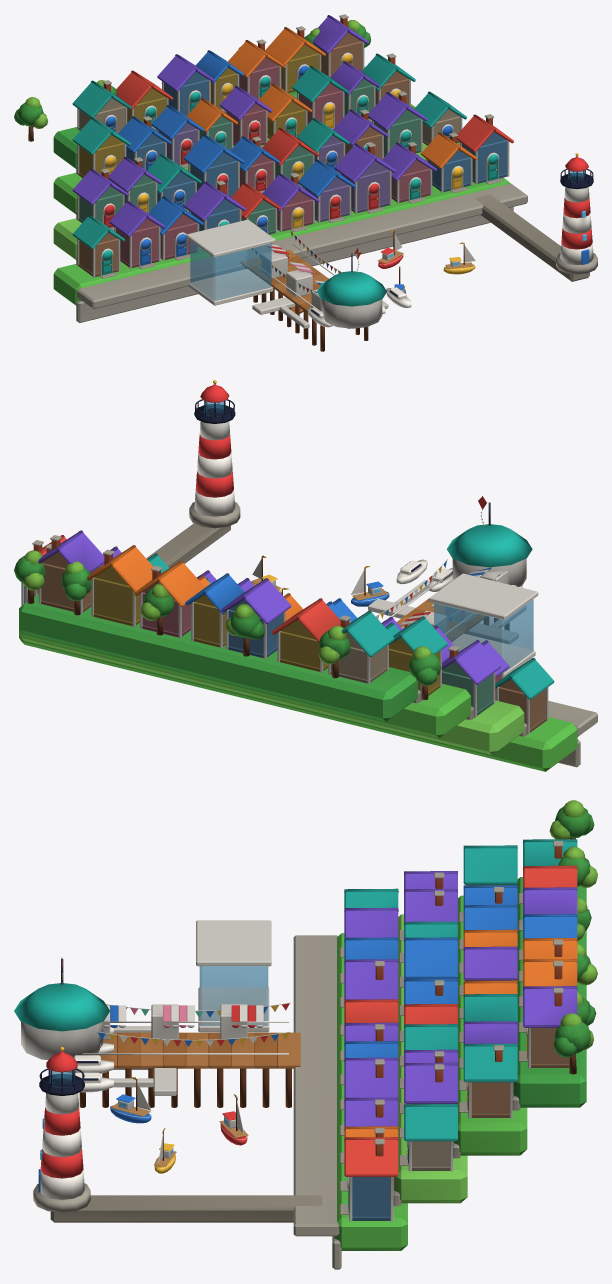
Rendered from harbour.glb.
3 renders of one model, top to bottom at view 1: azimuth 30°, elevation 25°; view 2: azimuth 150°, elevation 25°; view 3: azimuth 270°, elevation 25°, orthographic. The views are drawn at different scales.
Visible parts, largest first — view 1: harbour_Satin, harbour_Gloss, harbour_Matte, Marina_Satin, Marina_Glass, Pier_old_Satin, Pier_restored_Satin, Pier_restored_Gloss, Marina_Gloss; view 2: harbour_Matte, harbour_Satin, harbour_Gloss, Marina_Satin, Marina_Glass, Pier_restored_Gloss, Pier_old_Satin, Pier_restored_Satin, Marina_Gloss; view 3: harbour_Gloss, harbour_Satin, harbour_Matte, Pier_old_Satin, Marina_Satin, Pier_restored_Satin, Pier_restored_Gloss, Marina_Glass, Marina_Gloss.
Boxes of the visible parts, box(x1,y1,x2,y2) form: harbour_Satin: box(14, 14, 597, 322); harbour_Gloss: box(72, 15, 593, 293); harbour_Matte: box(53, 67, 510, 305); Marina_Satin: box(186, 219, 388, 328); Marina_Glass: box(190, 241, 271, 300); Pier_old_Satin: box(241, 244, 367, 350); Pier_restored_Satin: box(241, 230, 382, 351); Pier_restored_Gloss: box(245, 244, 386, 311); Marina_Gloss: box(308, 287, 411, 327); harbour_Matte: box(19, 594, 577, 771); harbour_Satin: box(14, 401, 597, 767); harbour_Gloss: box(38, 384, 554, 699); Marina_Satin: box(368, 573, 538, 676); Marina_Glass: box(434, 599, 533, 672); Pier_restored_Gloss: box(383, 524, 532, 633); Pier_old_Satin: box(397, 567, 508, 640); Pier_restored_Satin: box(375, 496, 526, 641); Marina_Gloss: box(396, 559, 522, 591); harbour_Gloss: box(38, 839, 577, 1212); harbour_Satin: box(33, 800, 597, 1269); harbour_Matte: box(334, 877, 586, 1250); Pier_old_Satin: box(85, 1004, 300, 1107); Marina_Satin: box(109, 920, 271, 1095); Pier_restored_Satin: box(21, 957, 300, 1107); Pier_restored_Gloss: box(14, 983, 288, 1053); Marina_Glass: box(199, 966, 268, 1025); Marina_Gloss: box(65, 1026, 113, 1092).
Size of the model in its own units: 30.31 by 10.71 by 25.49.
